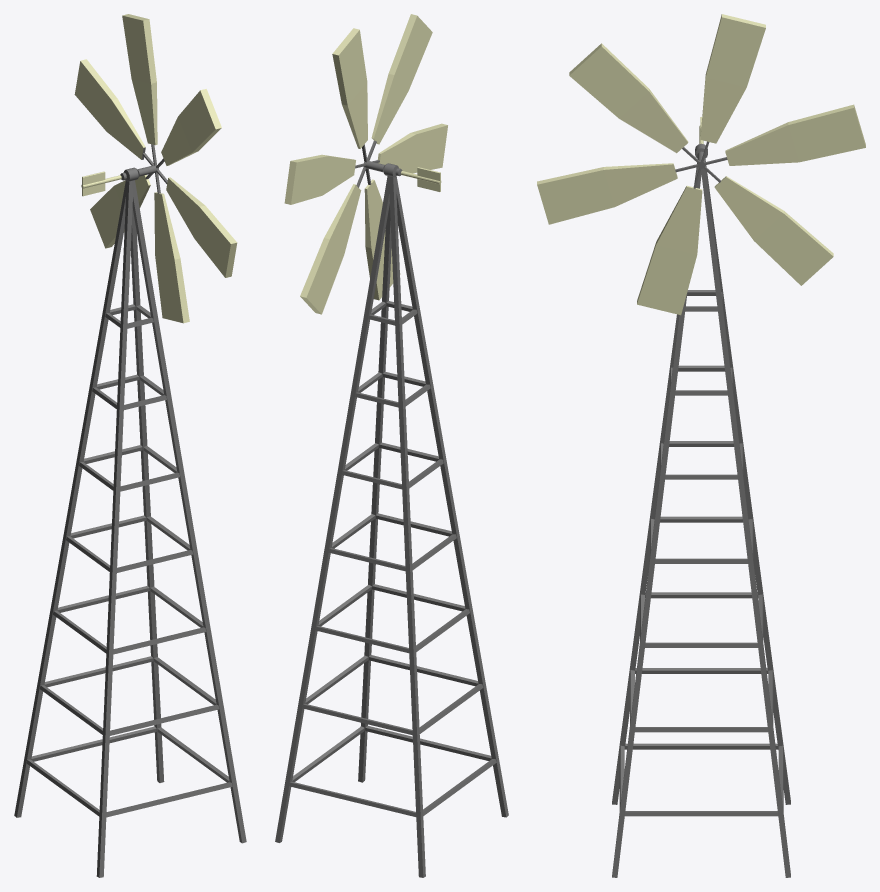
File: 066 Windmill.FBX
3 views of the same model, side by side, from view 1: azimuth 30°, elevation 25°; view 2: azimuth 150°, elevation 25°; view 3: azimuth 270°, elevation 25° (orthographic). The views are drawn at different scales.
Visible parts, largest first — view 1: Line177, Cylinder072, windmill012; view 2: Line177, Cylinder072, windmill012; view 3: Cylinder072, Line177.
Boxes of the visible parts, x1,y1,x2,y2 form: Line177: [14, 180, 246, 877]; Cylinder072: [74, 14, 237, 323]; windmill012: [81, 171, 121, 196]; Line177: [275, 176, 508, 877]; Cylinder072: [284, 14, 447, 314]; windmill012: [401, 167, 441, 191]; Cylinder072: [537, 14, 865, 315]; Line177: [612, 159, 790, 877].
Size of the model in its own units: 235 by 1212 by 431.
